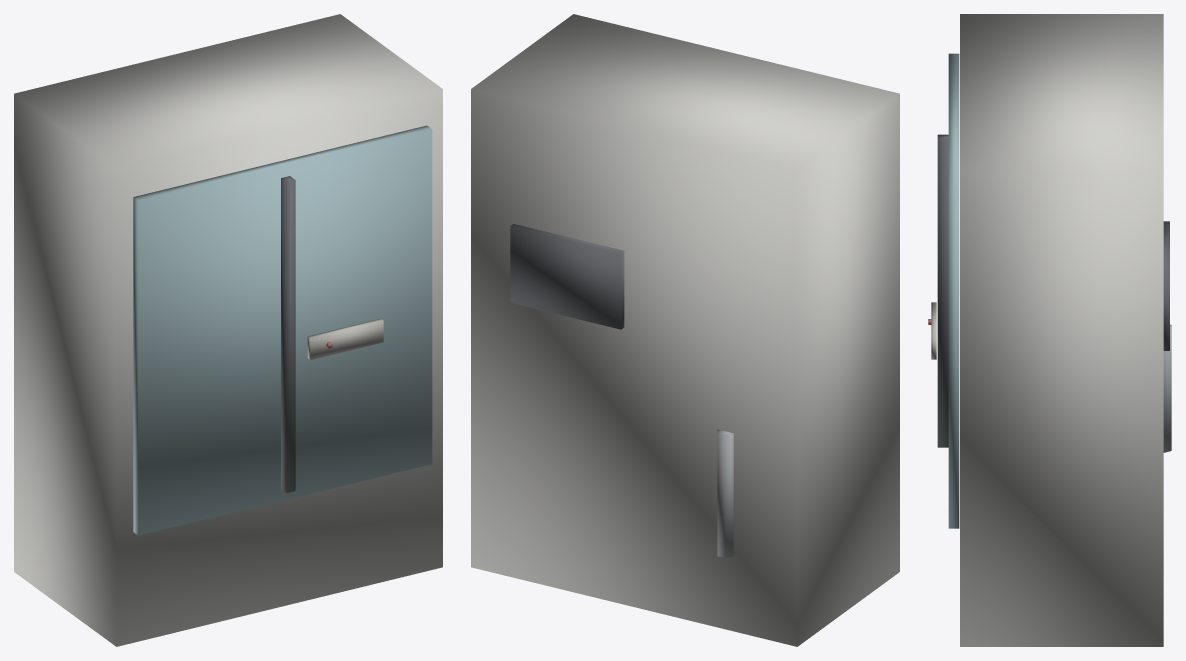
Rendered from refrigerated_display_case__service.glb.
3 views of the same model, side by side, from view 1: azimuth 30°, elevation 25°; view 2: azimuth 150°, elevation 25°; view 3: azimuth 270°, elevation 25° (orthographic).
Parts seen in each view (by area): view 1: world; view 2: world; view 3: world.
Part boxes in pixels (x1=…): world: x1=14, y1=14, x2=442, y2=646; world: x1=471, y1=14, x2=899, y2=646; world: x1=928, y1=14, x2=1171, y2=646.
Bounding box in the file's own units: 1.25 × 1.75 × 0.8131.
